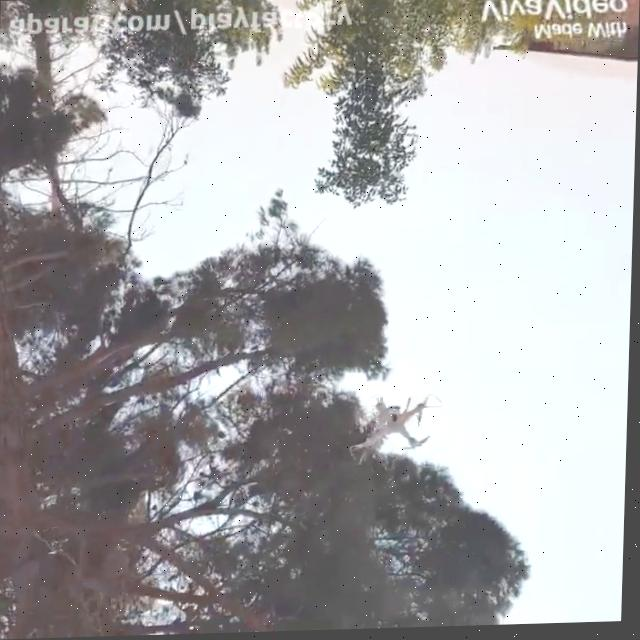drone: (350, 388, 445, 473)
